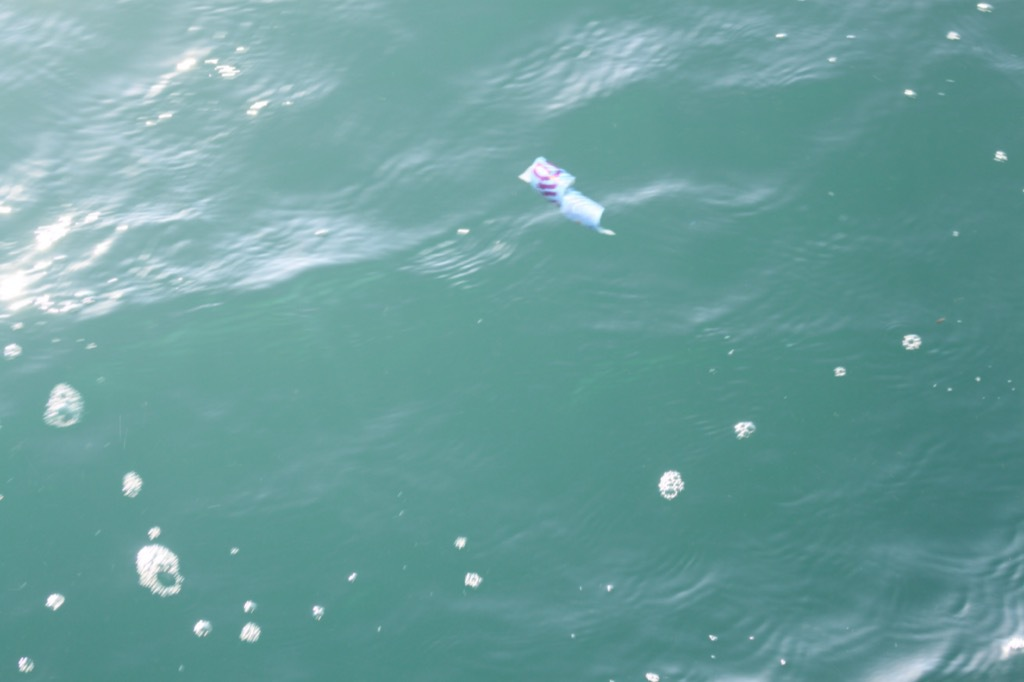plastic: (502, 122, 642, 262)
